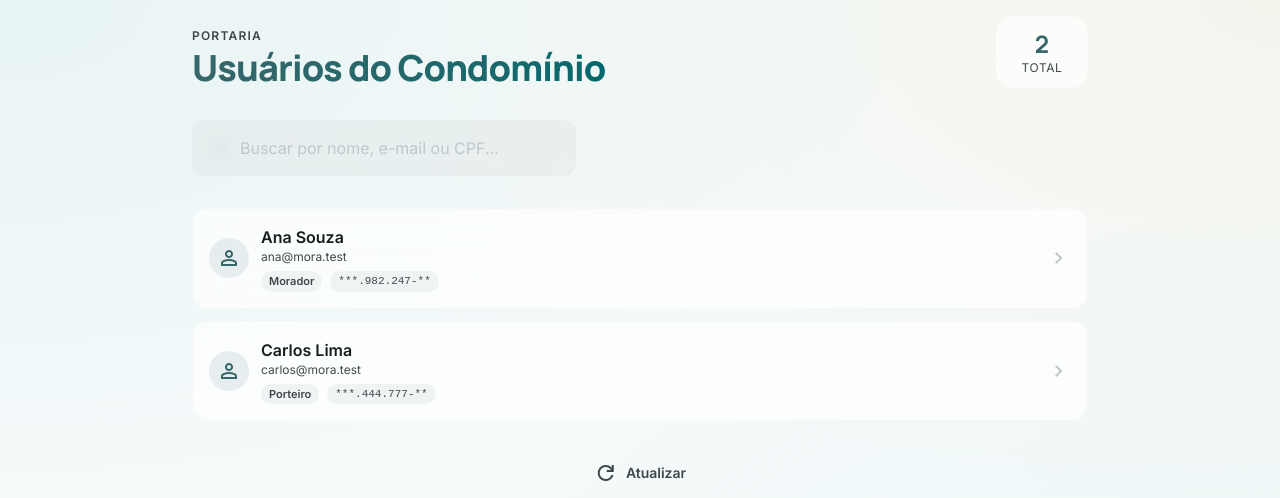
Test: UsuariosCondominio › busca por e-mail também filtra
The image size is (1280, 498).
Expected: the text "Ana Souza" is shown, [261,227,344,247]
Type "ana@" into the field with placeholder "Buscar por nome, e-mail ou CPF...".
click(384, 148); type("ana@")  # box [192,120,576,176]
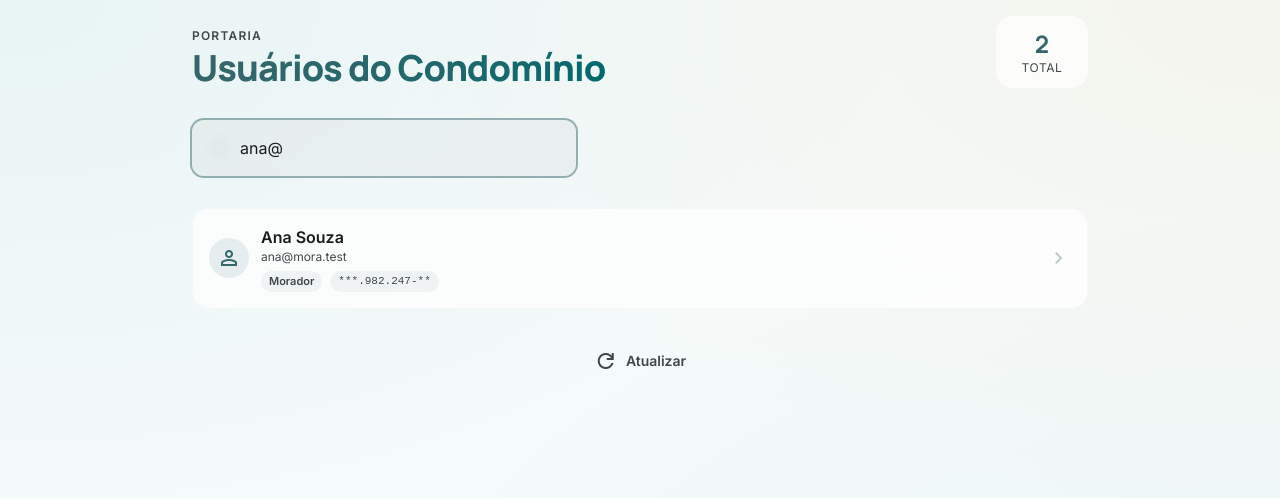
Expected: the text "Ana Souza" is shown, [261,227,344,247]
Expected: the button "Carlos Lima" is gone
